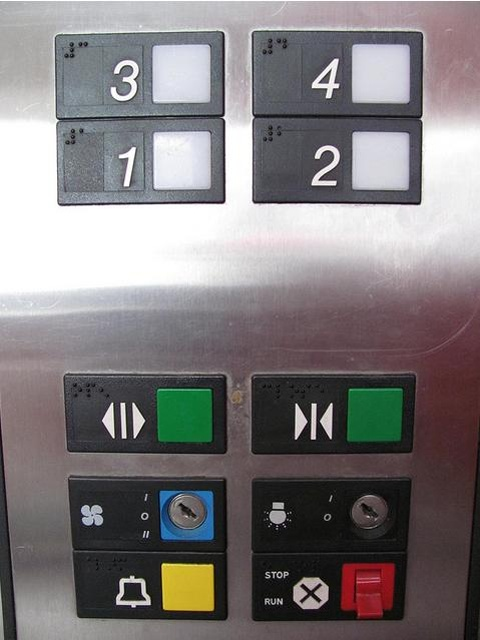1: (49, 112, 228, 209)
2: (247, 111, 426, 208)
3: (49, 27, 229, 121)
4: (248, 26, 427, 123)
alarm: (69, 545, 232, 623)
close: (246, 368, 418, 458)
fan: (63, 470, 233, 556)
light: (243, 473, 416, 558)
open: (59, 368, 231, 458)
stop: (243, 545, 416, 627)
